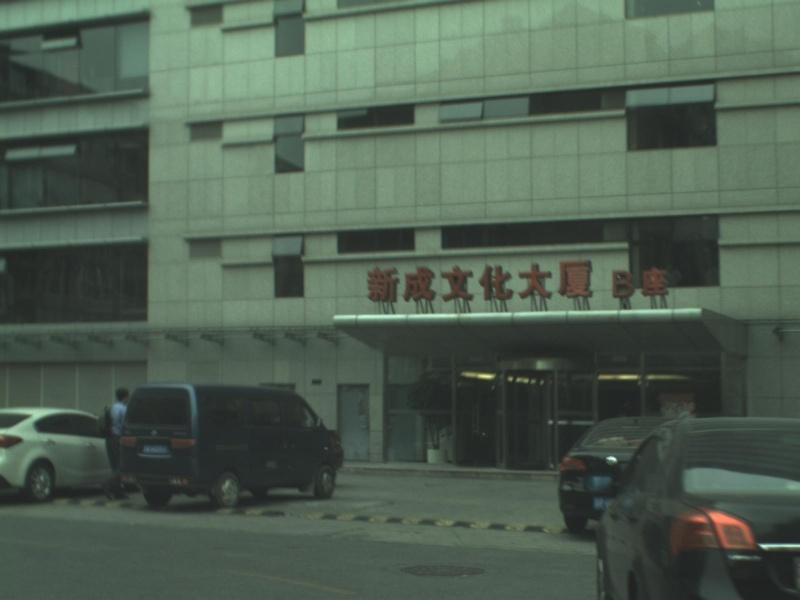text: (369, 257, 384, 308), (385, 257, 400, 308), (401, 257, 416, 308), (417, 257, 432, 308), (433, 257, 448, 308), (449, 257, 464, 308), (465, 257, 480, 308), (481, 257, 496, 308), (497, 257, 512, 308), (513, 257, 528, 308), (529, 257, 544, 308), (545, 257, 560, 308), (561, 257, 576, 308), (577, 257, 592, 308), (625, 267, 640, 300), (641, 267, 656, 300), (657, 267, 671, 300), (611, 267, 624, 300), (593, 257, 598, 308), (365, 257, 368, 308), (145, 445, 160, 454), (596, 498, 608, 508), (161, 445, 169, 454), (609, 498, 616, 508)
